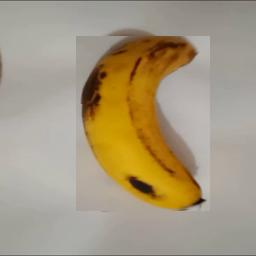Banana Semifresh: (76, 36, 210, 211)
